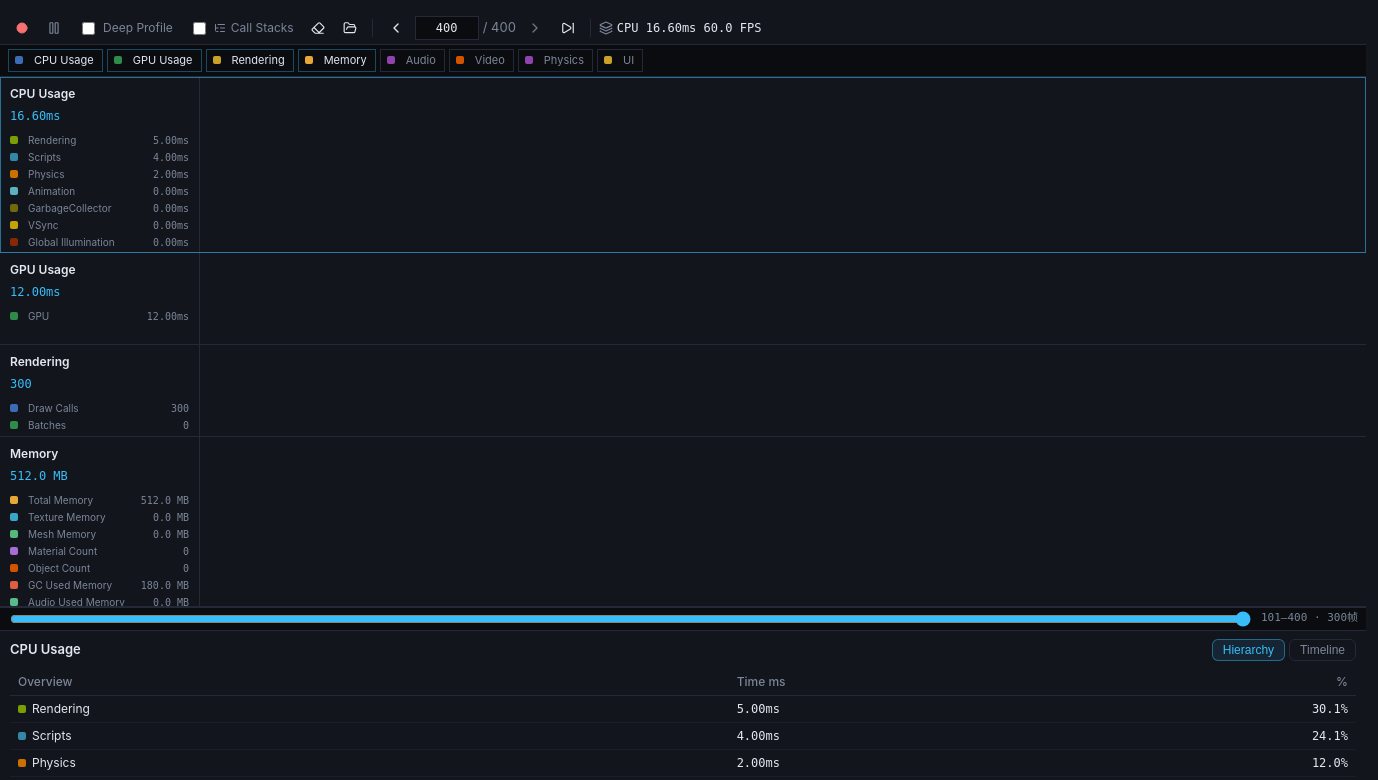
Scenario: ProfilerView 时间轴视口 › Current 恢复实时跟随并取消选中
Step 1. Click the button named "上一帧" → (396, 28), box [381,15,411,41]
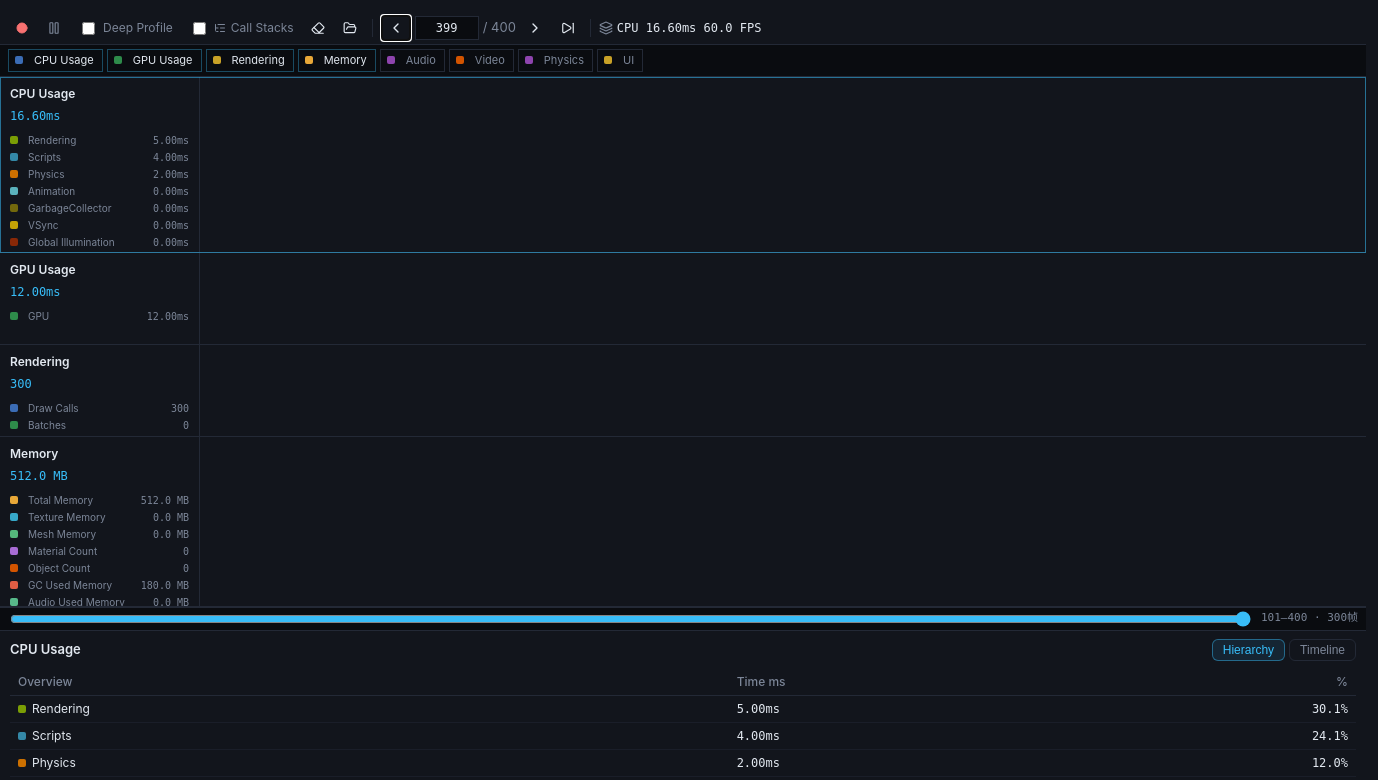
Step 2. Click the button named "最新帧" → (568, 28), box [554,15,582,41]
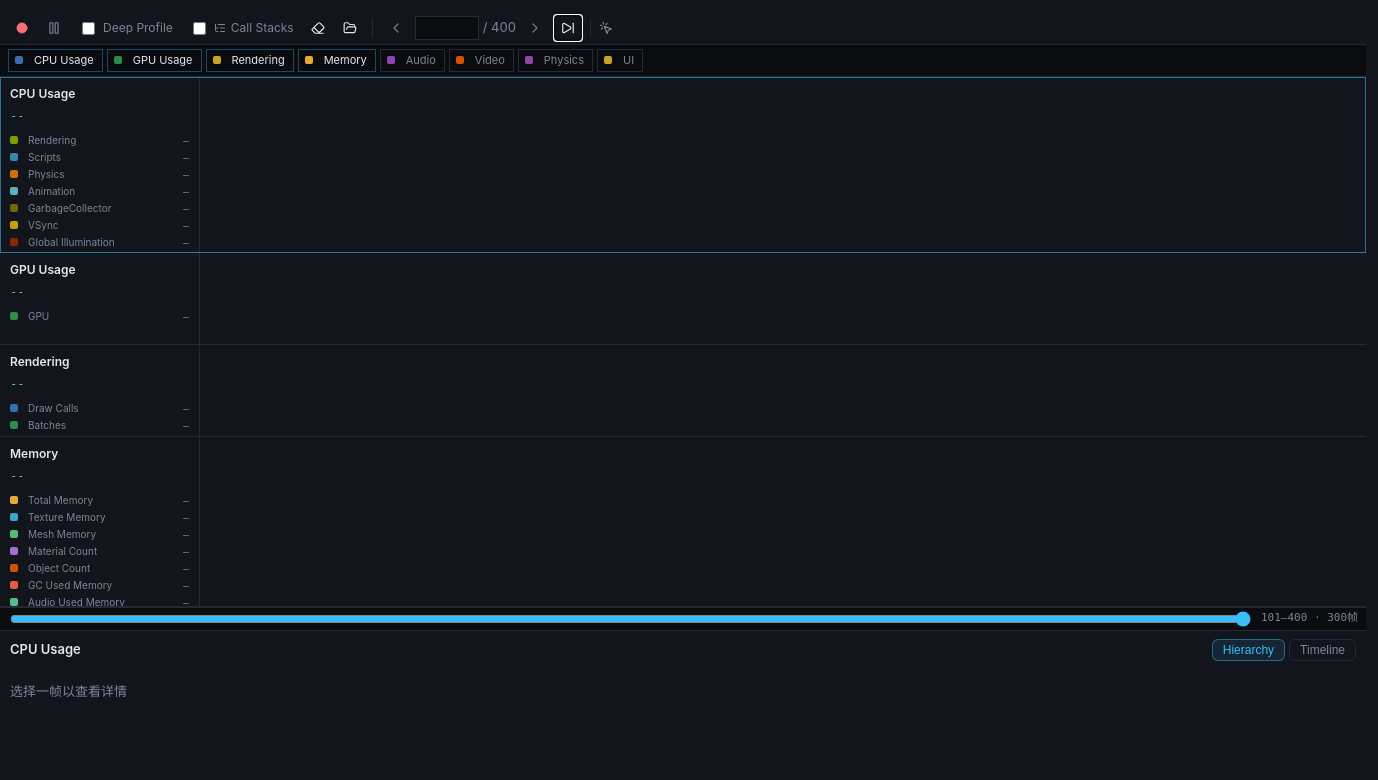
expect the field named "当前帧" is empty: met, box [415,16,479,40]
expect the text "选择一帧以查看详情" is shown: met, box [10,682,127,698]
